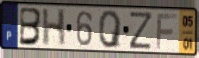6: (75, 10, 94, 48)
B: (18, 6, 44, 47)
F: (155, 13, 179, 51)
H: (41, 7, 67, 47)
Q: (97, 9, 123, 50)
Z: (128, 10, 155, 51)
